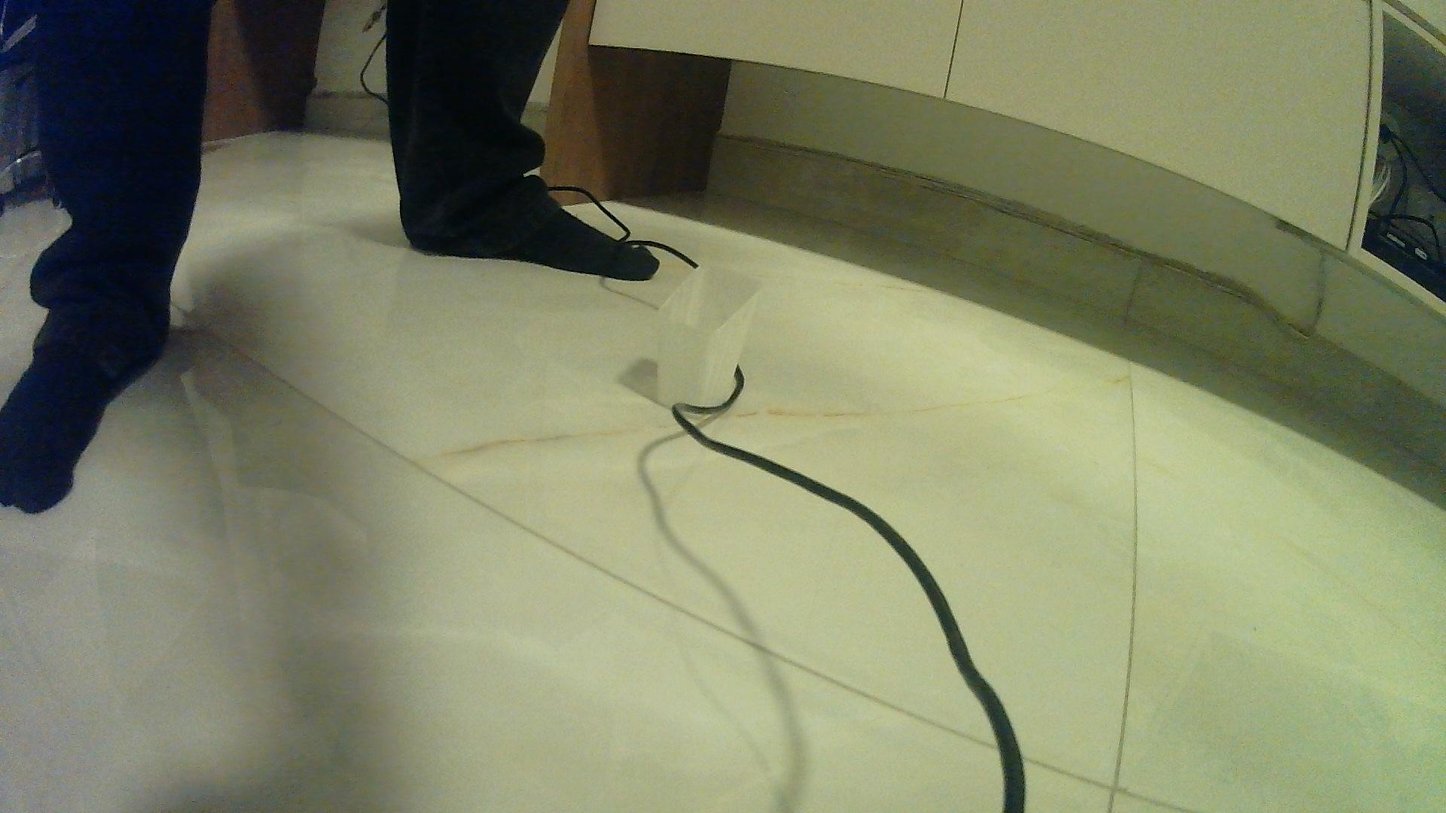erva_daninha: (645, 257, 768, 417)
